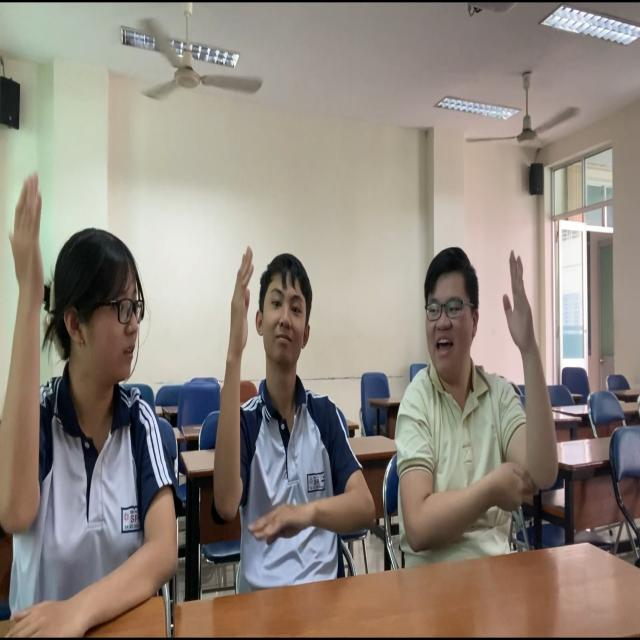raise_hand: (1, 154, 186, 640), (212, 227, 369, 593), (389, 238, 559, 560)
